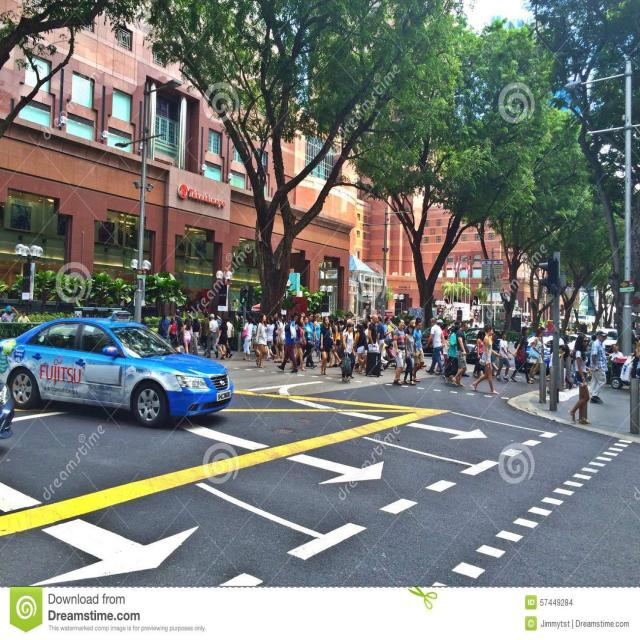body: (261, 306, 352, 358), (565, 332, 592, 427), (468, 324, 501, 396), (37, 290, 110, 318), (588, 329, 610, 405), (509, 325, 535, 385), (276, 311, 300, 373), (424, 316, 446, 377), (450, 320, 468, 388), (527, 328, 550, 381), (494, 329, 516, 382), (53, 330, 106, 352), (546, 344, 567, 398), (452, 319, 470, 378), (318, 314, 335, 376), (392, 317, 406, 387), (411, 318, 425, 384), (444, 324, 461, 378), (403, 322, 417, 386), (530, 326, 546, 381), (352, 322, 368, 375), (253, 312, 268, 368), (411, 316, 427, 368), (341, 322, 354, 384), (296, 315, 311, 368), (376, 315, 390, 371), (294, 315, 308, 371), (204, 311, 220, 359), (330, 316, 344, 368), (274, 312, 287, 364), (472, 330, 486, 378), (171, 308, 186, 352), (625, 336, 640, 379), (305, 312, 316, 369), (563, 334, 575, 384), (241, 316, 254, 361), (216, 315, 229, 360), (313, 312, 324, 363), (266, 314, 276, 361), (491, 333, 501, 379), (200, 311, 210, 355), (367, 313, 379, 349), (586, 333, 598, 368), (156, 311, 170, 340), (182, 317, 192, 355), (342, 318, 354, 347), (0, 304, 19, 322), (226, 316, 234, 358), (249, 320, 258, 357), (441, 334, 450, 370), (608, 344, 624, 362), (383, 316, 395, 340), (12, 211, 28, 228), (246, 317, 252, 360), (239, 282, 248, 306), (562, 336, 570, 362), (361, 321, 370, 344), (17, 310, 31, 323), (192, 317, 200, 339), (207, 314, 221, 326), (2, 286, 16, 298), (441, 323, 450, 338), (490, 327, 494, 358), (361, 300, 371, 312), (386, 319, 394, 334), (364, 314, 372, 328), (167, 313, 176, 325), (403, 319, 410, 334), (234, 312, 242, 324), (435, 321, 443, 330), (272, 310, 278, 320), (141, 316, 147, 326), (10, 303, 14, 315), (189, 315, 193, 324), (436, 308, 442, 314), (474, 312, 478, 321), (524, 318, 528, 324)
